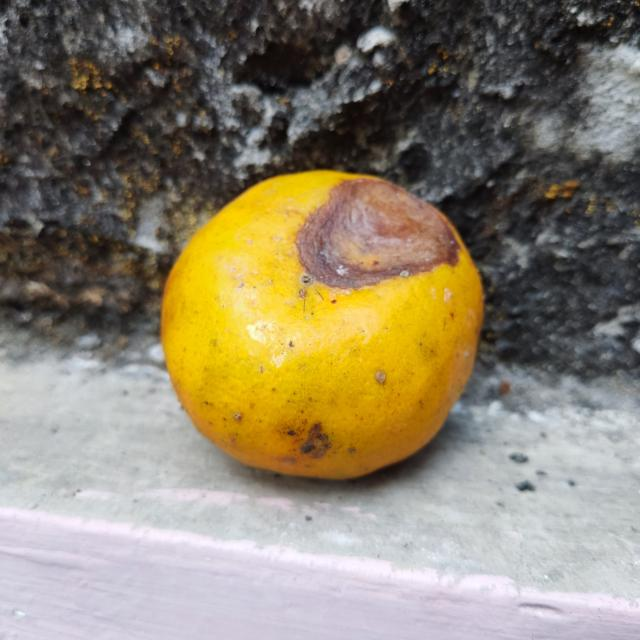orange: (156, 167, 483, 480)
